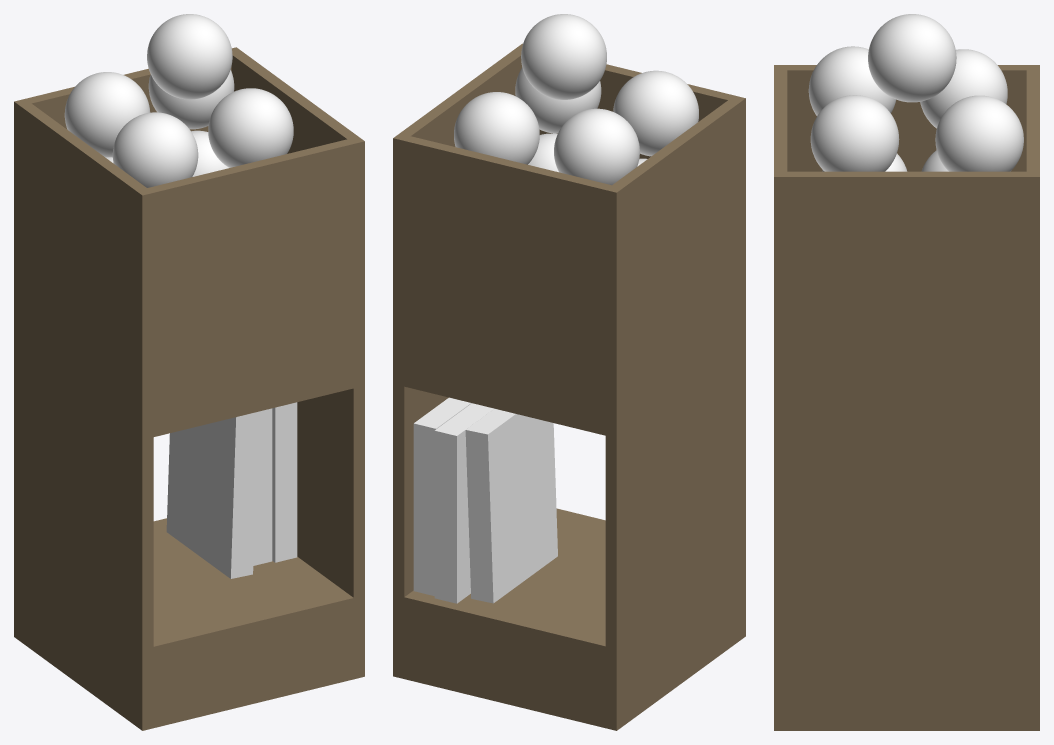
Rendered from example1.glb.
The picture shows the model from 3 angles, left to right: view 1: azimuth 30°, elevation 25°; view 2: azimuth 150°, elevation 25°; view 3: azimuth 270°, elevation 25°; orthographic projection. The views are drawn at different scales.
Parts seen in each view (by area): view 1: example1001, example1, example1002, example1003, example1018, example1014, example1015, example1016, example1005, example1004, example1017, example1010; view 2: example1001, example1, example1002, example1003, example1004, example1018, example1016, example1015, example1017, example1005, example1014, example1011; view 3: example1001, example1, example1002, example1018, example1014, example1017, example1015, example1016.
Part boxes in pixels (x1,y1,x2,y2): example1001: (14,47,364,428); example1: (14,334,364,660); example1002: (14,567,364,730); example1003: (166,412,258,578); example1018: (147,14,232,99); example1014: (208,88,293,167); example1015: (112,112,198,187); example1016: (64,72,150,157); example1005: (272,402,297,562); example1004: (253,408,272,565); example1017: (148,70,234,129); example1010: (191,130,228,176); example1001: (393,43,745,426); example1: (393,332,745,660); example1002: (393,566,745,730); example1003: (465,408,557,603); example1004: (434,403,493,603); example1018: (521,14,606,99); example1016: (554,108,639,185); example1015: (613,70,698,156); example1017: (454,92,539,164); example1005: (413,397,471,595); example1014: (515,67,601,133); example1011: (528,133,558,172); example1001: (774,65,1039,417); example1: (774,418,1039,658); example1002: (774,658,1039,730); example1018: (868,14,956,102); example1014: (810,95,899,171); example1017: (935,95,1023,171); example1015: (808,46,896,115); example1016: (920,49,1007,128).
Bounding box in the file's own units: 0.3 × 0.84 × 0.3.
